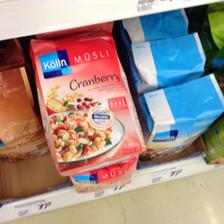Cerealien: (30, 34, 146, 170)
